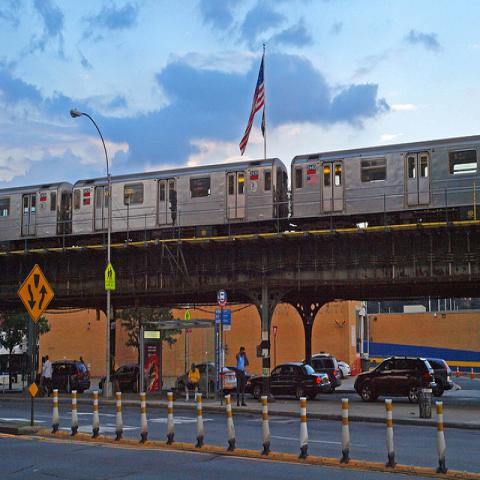car: (354, 356, 437, 402), (250, 363, 331, 400), (35, 360, 92, 394), (99, 363, 164, 392), (174, 362, 236, 392), (426, 357, 454, 397), (313, 358, 342, 390), (225, 366, 257, 387), (336, 361, 352, 381)
